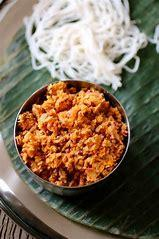Pol Sambol: (21, 86, 133, 202)
String Hoppers: (21, 4, 151, 79)
